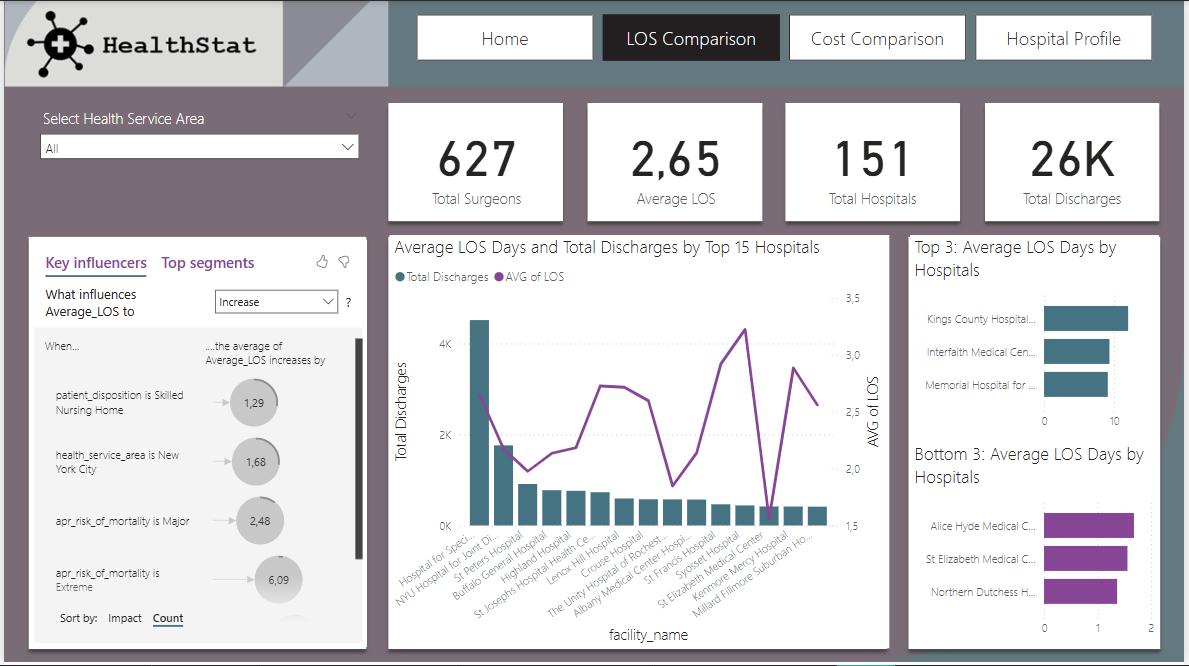

The page's visual inventory and layout, read from the dashboard file:
{"tool":"powerbi","page":{"name":"LOS Comparison","canvas":[1280,720],"ordinal":1},"visuals":[{"type":"lineStackedColumnComboChart","title":"Average LOS Days  and Total Discharges by Top 15 Hospitals","fields":{"Y2":["_Measures.AVG of LOS"],"Y":["_Measures.Total Discharges"],"Category":["hospital_discharges.facility_name"]},"box":[418,254,542,448],"z":0},{"type":"card","fields":{"Values":["_Measures.Total Surgeons"]},"box":[418,110,188,128],"z":1000},{"type":"slicer","fields":{"Values":["hospital_discharges.health_service_area"]},"box":[30,110,366,62],"z":2000},{"type":"keyDriversVisual","fields":{"ExplainBy":["hospital_discharges.apr_risk_of_mortality","hospital_discharges.apr_severity_of_illness_description","hospital_discharges.ccs_diagnosis_description","hospital_discharges.patient_disposition","hospital_discharges.gender","Surgical_program_volume_summary.Surgical_program_size","hospital_discharges.Age Band","hospital_discharges.health_service_area"],"Target":["_Measures.Average_LOS"]},"box":[28,258,366,442],"z":3000},{"type":"card","fields":{"Values":["_Measures.Total Discharges"]},"box":[1064,110,188,128],"z":4000},{"type":"card","fields":{"Values":["_Measures.Total_Hospitals"]},"box":[848,110,188,128],"z":5000},{"type":"card","fields":{"Values":["_Measures.Average_LOS"]},"box":[634,110,188,128],"z":6000},{"type":"clusteredBarChart","title":"Bottom 3: Average LOS Days by Hospitals","fields":{"Category":["hospital_discharges.facility_name"],"Y":["_Measures.AVG of LOS"]},"box":[982,478,270,220],"z":7000},{"type":"clusteredBarChart","title":"Top 3: Average LOS Days by Hospitals","fields":{"Category":["hospital_discharges.facility_name"],"Y":["_Measures.Average_LOS"]},"box":[982,254,270,220],"z":8000},{"type":"pageNavigator","box":[448,14,800,50],"z":9000}]}

Visuals, with their boxes in screenshot pixels (x1, y1, x2, y2), scaled from the page's 1280x720 canvas onto the 1189x666 screenshot:
"Average LOS Days  and Total Discharges by Top 15 Hospitals" lineStackedColumnComboChart: (x1=388, y1=235, x2=892, y2=649)
card - _Measures.Total Surgeons: (x1=388, y1=102, x2=563, y2=220)
slicer - hospital_discharges.health_service_area: (x1=28, y1=102, x2=368, y2=159)
keyDriversVisual - hospital_discharges.apr_risk_of_mortality x hospital_discharges.apr_severity_of_illness_description: (x1=26, y1=239, x2=366, y2=648)
card - _Measures.Total Discharges: (x1=988, y1=102, x2=1163, y2=220)
card - _Measures.Total_Hospitals: (x1=788, y1=102, x2=962, y2=220)
card - _Measures.Average_LOS: (x1=589, y1=102, x2=764, y2=220)
"Bottom 3: Average LOS Days by Hospitals" clusteredBarChart: (x1=912, y1=442, x2=1163, y2=646)
"Top 3: Average LOS Days by Hospitals" clusteredBarChart: (x1=912, y1=235, x2=1163, y2=438)
pageNavigator: (x1=416, y1=13, x2=1159, y2=59)
